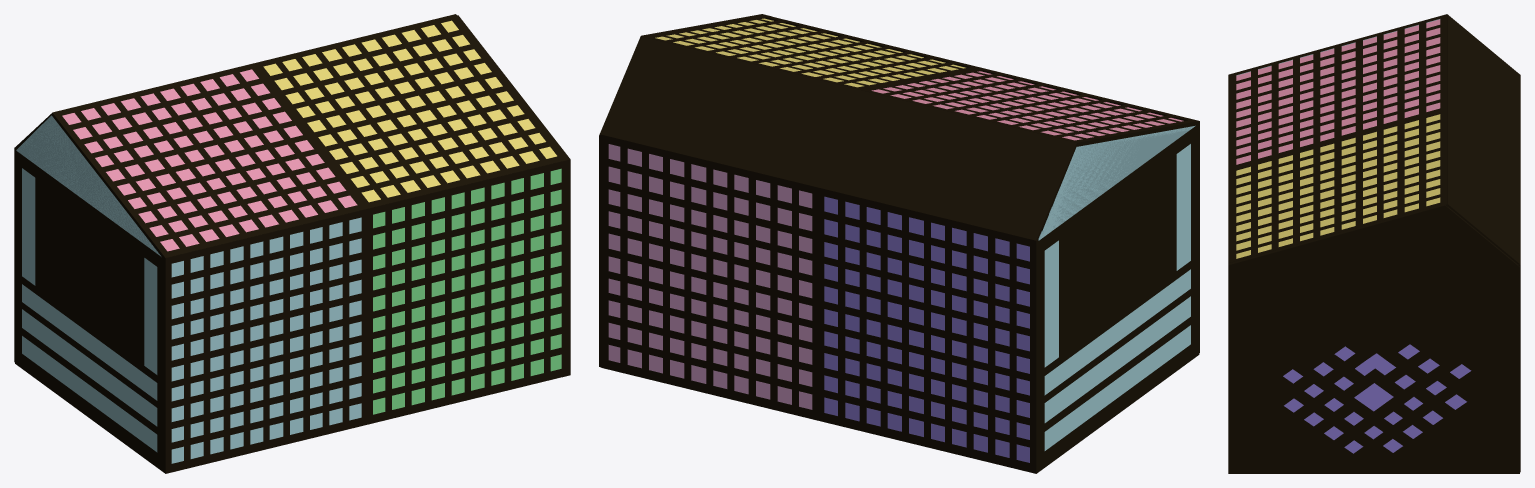
The model's file is Ambiente.glb.
3 views of the same model, side by side, from view 1: azimuth 30°, elevation 25°; view 2: azimuth 150°, elevation 25°; view 3: azimuth 270°, elevation 25° (orthographic). The views are drawn at different scales.
Visible parts, largest first — view 1: Plano.003, Plano.002, Cubo.003, Plano.004, Plano.005, Cubo.002, Cubo, Plano; view 2: Plano, Plano.001, Cubo.001, Cubo.003, Plano.004, Plano.005, Cubo.002, Cubo, Plano.003; view 3: Cubo.002, Plano.004, Plano.005, Cubo.001.
Boxes of the visible parts, left/top/right/bottom form: Plano.003: left=163, top=209, right=367, bottom=472; Plano.002: left=367, top=160, right=566, bottom=423; Cubo.003: left=16, top=115, right=163, bottom=469; Plano.004: left=51, top=63, right=367, bottom=258; Plano.005: left=254, top=14, right=565, bottom=208; Cubo.002: left=449, top=15, right=570, bottom=377; Cubo: left=15, top=363, right=566, bottom=473; Plano: left=14, top=147, right=16, bottom=363; Plano: left=817, top=187, right=1038, bottom=472; Plano.001: left=600, top=133, right=818, bottom=419; Cubo.001: left=601, top=37, right=1076, bottom=240; Cubo.003: left=1038, top=125, right=1197, bottom=469; Plano.004: left=860, top=68, right=1199, bottom=146; Plano.005: left=640, top=15, right=980, bottom=90; Cubo.002: left=599, top=14, right=770, bottom=367; Cubo: left=601, top=354, right=1199, bottom=473; Plano.003: left=980, top=70, right=1199, bottom=354; Cubo.002: left=1228, top=201, right=1519, bottom=473; Plano.004: left=1228, top=14, right=1447, bottom=170; Plano.005: left=1228, top=109, right=1448, bottom=260; Cubo.001: left=1447, top=14, right=1520, bottom=264.
Bounding box in the file's own units: 11.78 × 7.75 × 7.62.
